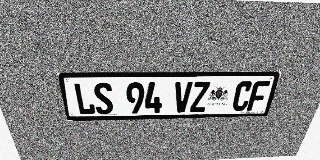4: (145, 82, 163, 113)
9: (126, 82, 144, 114)
C: (231, 81, 254, 111)
F: (247, 81, 270, 111)
L: (73, 83, 96, 115)
S: (92, 82, 114, 114)
V: (173, 82, 193, 113)
Z: (190, 81, 210, 112)
